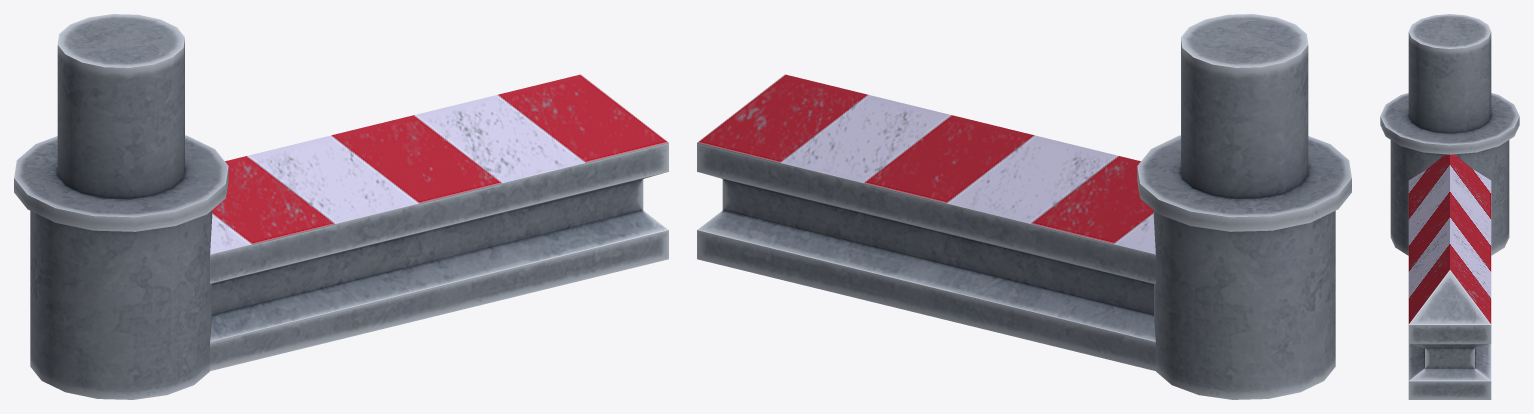
File: SpinHitter.fbx
3 views of the same model, side by side, from view 1: azimuth 30°, elevation 25°; view 2: azimuth 150°, elevation 25°; view 3: azimuth 270°, elevation 25° (orthographic). The views are drawn at different scales.
Visible parts, largest first — view 1: Empty_Mesh; view 2: Empty_Mesh; view 3: Empty_Mesh.
Boxes of the visible parts, x1,y1,x2,y2 form: Empty_Mesh: (14, 14, 668, 399); Empty_Mesh: (697, 14, 1351, 399); Empty_Mesh: (1380, 14, 1519, 399).
Size of the model in its own units: 547 by 275 by 168.
